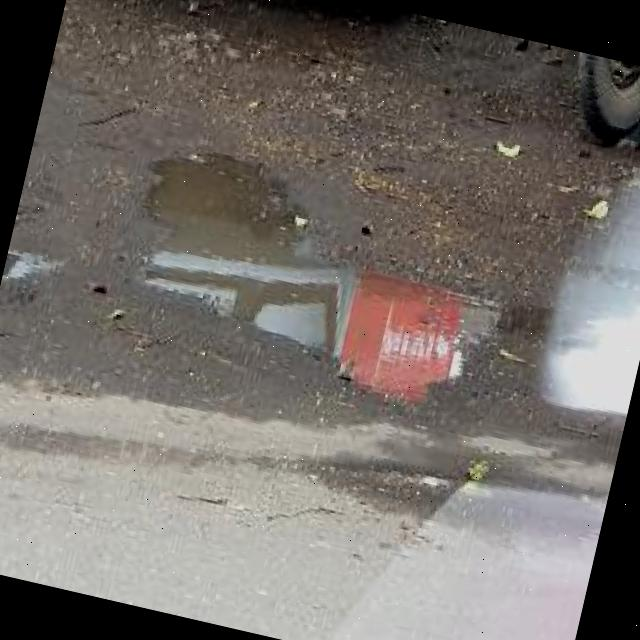stagnation: (98, 125, 562, 449)
